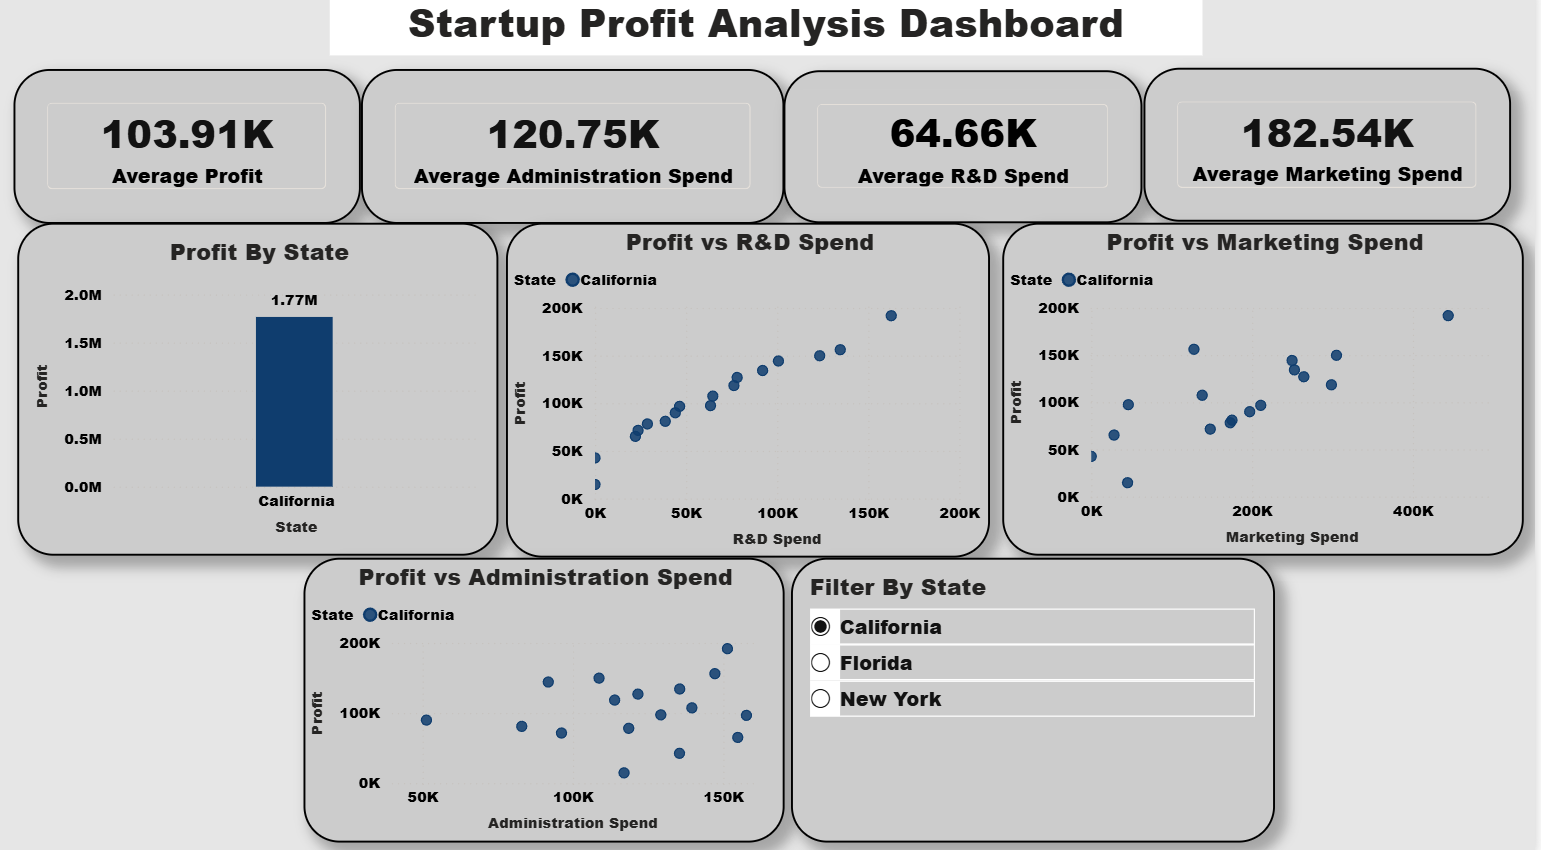

This screenshot's page, from the dashboard's own definition file:
{"tool":"powerbi","page":{"name":"Page 1","canvas":[1280,720],"ordinal":0},"visuals":[{"type":"cardVisual","title":"Average Profit","fields":{"Data":["Avg(startup.Profit)"]},"box":[14.4,66.4,288.6,128.4],"z":0},{"type":"textbox","box":[277,0,725.7,54.8],"z":1000},{"type":"cardVisual","fields":{"Data":["Avg(startup.Administration)"]},"box":[303,66.4,352,128.4],"z":2000},{"type":"cardVisual","fields":{"Data":["Avg(startup.RD_Spend)"]},"box":[655,67.8,298.7,127],"z":3000},{"type":"cardVisual","fields":{"Data":["Avg(startup.Marketing_Spend)"]},"box":[954,65.9,305.6,128.2],"z":4000},{"type":"clusteredColumnChart","title":"Profit By State","fields":{"Category":["startup.State"],"Y":["Sum(startup.Profit)"]},"box":[17.3,194.8,399.6,277],"z":5000},{"type":"scatterChart","title":"Profit vs R&D Spend","fields":{"X":["startup.RD_Spend"],"Y":["startup.Profit"],"Series":["startup.State"]},"box":[424.2,194.8,402.5,278.5],"z":6000},{"type":"scatterChart","title":"Profit vs Marketing Spend","fields":{"Y":["startup.Profit"],"Series":["startup.State"],"X":["startup.Marketing_Spend"]},"box":[836.6,194.2,433.9,276.9],"z":7000},{"type":"scatterChart","title":"Profit vs Administration Spend","fields":{"Y":["startup.Profit"],"Series":["startup.State"],"X":["startup.Administration"]},"box":[255.4,473.2,399.6,236.6],"z":8000},{"type":"listSlicer","title":"Filter By State","fields":{"Values":["startup.State"]},"box":[660.8,473.2,402.5,236.6],"z":9000}]}

Visuals, with their boxes in screenshot pixels (x1, y1, x2, y2), scaled from the page's 1280x720 canvas onto the 1541x850 screenshot:
"Average Profit" cardVisual: pyautogui.locateOnScreen(17, 78, 365, 230)
textbox: pyautogui.locateOnScreen(333, 0, 1207, 65)
cardVisual - Avg(startup.Administration): pyautogui.locateOnScreen(365, 78, 789, 230)
cardVisual - Avg(startup.RD_Spend): pyautogui.locateOnScreen(789, 80, 1148, 230)
cardVisual - Avg(startup.Marketing_Spend): pyautogui.locateOnScreen(1149, 78, 1516, 229)
"Profit By State" clusteredColumnChart: pyautogui.locateOnScreen(21, 230, 502, 557)
"Profit vs R&D Spend" scatterChart: pyautogui.locateOnScreen(511, 230, 995, 559)
"Profit vs Marketing Spend" scatterChart: pyautogui.locateOnScreen(1007, 229, 1530, 556)
"Profit vs Administration Spend" scatterChart: pyautogui.locateOnScreen(307, 559, 789, 838)
"Filter By State" listSlicer: pyautogui.locateOnScreen(796, 559, 1280, 838)
